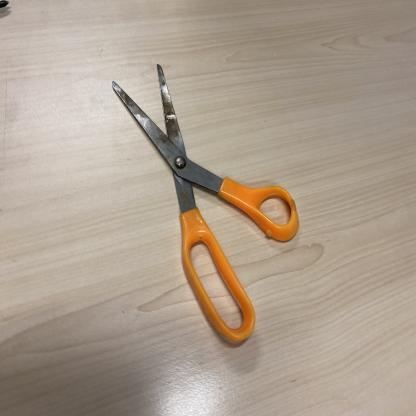scissors: (111, 62, 301, 346)
